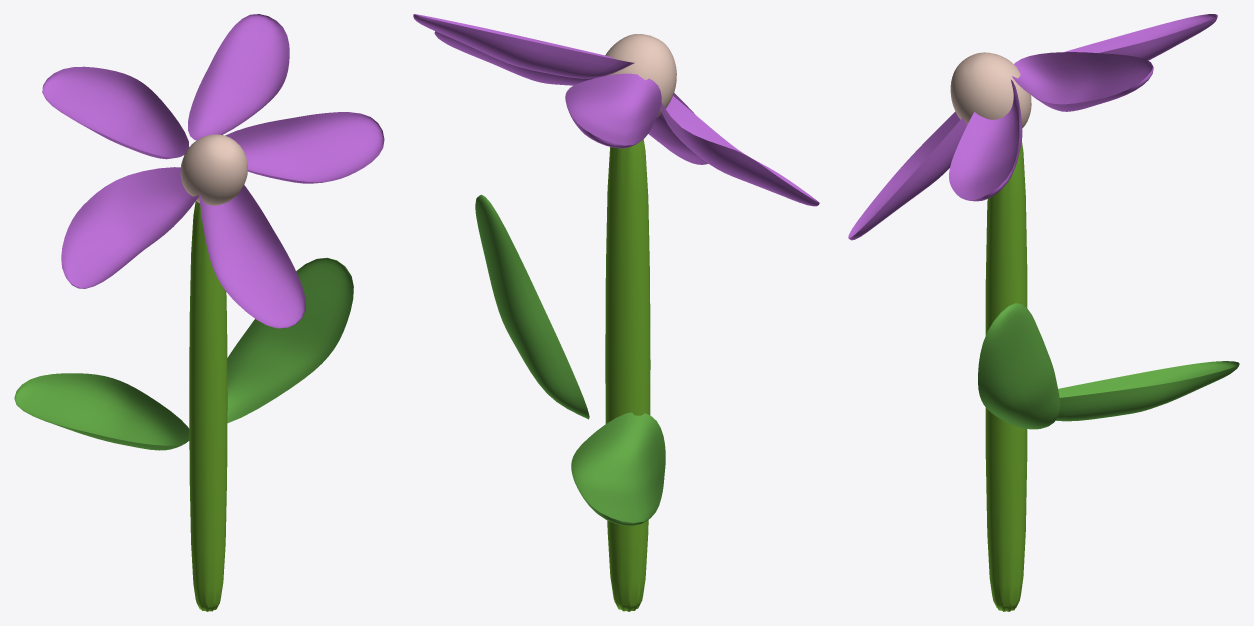
File: purple_flower.fbx
3 views of the same model, side by side, from view 1: azimuth 30°, elevation 25°; view 2: azimuth 150°, elevation 25°; view 3: azimuth 270°, elevation 25° (orthographic). The views are drawn at different scales.
Visible parts, largest first — view 1: polySurface50; view 2: polySurface50; view 3: polySurface50.
Boxes of the visible parts, <box> form: polySurface50: <box>14,14,384,611</box>; polySurface50: <box>413,14,819,611</box>; polySurface50: <box>848,14,1239,611</box>.
Bounding box in the file's own units: 2.24 × 3.48 × 2.06.
